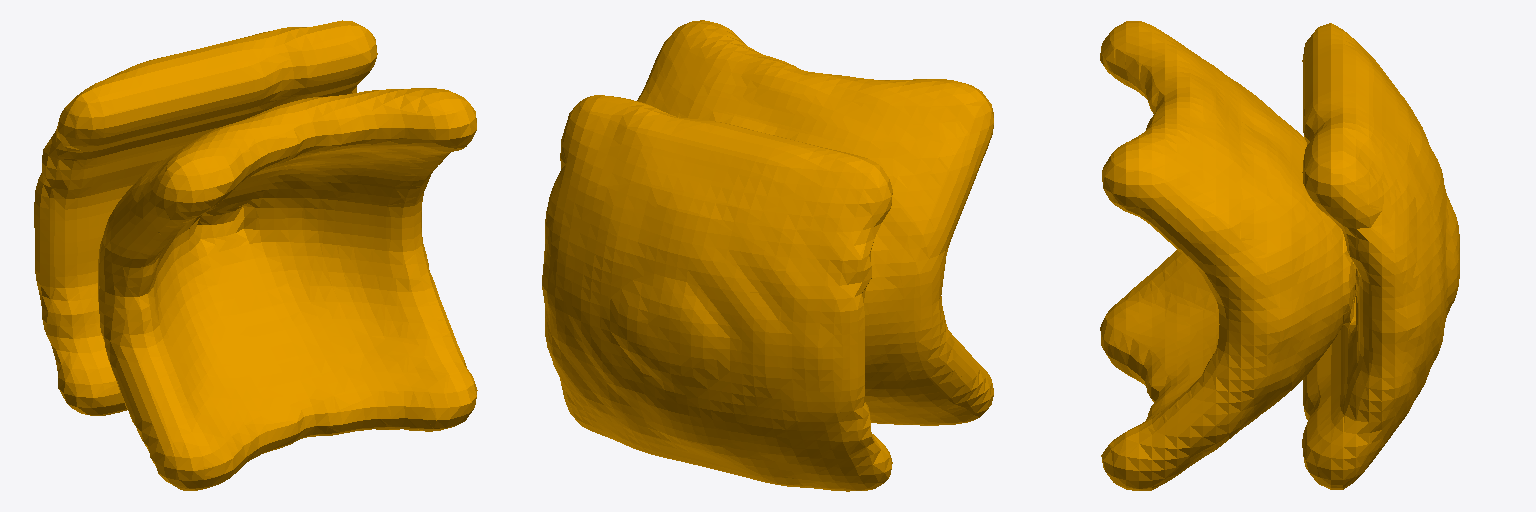
The robot description file, URDF, robot "L09_3":
<?xml version="1.0"?>
<robot name="L09_3">
  <link name="base_link">
    <inertial>
      <mass value="0.12200" />
      <origin xyz="0 0 0" />
      <inertia  ixx="0.0002" ixy="0.0"  ixz="0.0"  iyy="0.0002"  iyz="0.0" izz="0.0002" />
    </inertial>
    <visual>
      <geometry>
        <mesh filename="../../../meshes/egad/train/L09_3.obj" />
      </geometry>
    </visual>
    <collision>
      <geometry>
        <mesh filename="../../../meshes/egad/train/L09_3.obj" />
      </geometry>
    </collision>
  </link>
</robot>

--- Render facts (derived) ---
3 views of the same robot in one strip: view 1: azimuth 30°, elevation 25°; view 2: azimuth 150°, elevation 25°; view 3: azimuth 270°, elevation 25° (orthographic).
Model L09_3 with 1 links and 0 joints (none), rooted at base_link, posed all joints at 0.
Links seen in each view (by area): view 1: base_link; view 2: base_link; view 3: base_link.
Boxes of the visible links, x1=… form: base_link: x1=34, y1=20, x2=477, y2=490; base_link: x1=542, y1=20, x2=993, y2=491; base_link: x1=1100, y1=21, x2=1459, y2=490.
Size in the robot's own frame: 0.0632 by 0.0601 by 0.063 metres.
1 mesh visuals loaded from 1 distinct referenced files (1 OBJ).